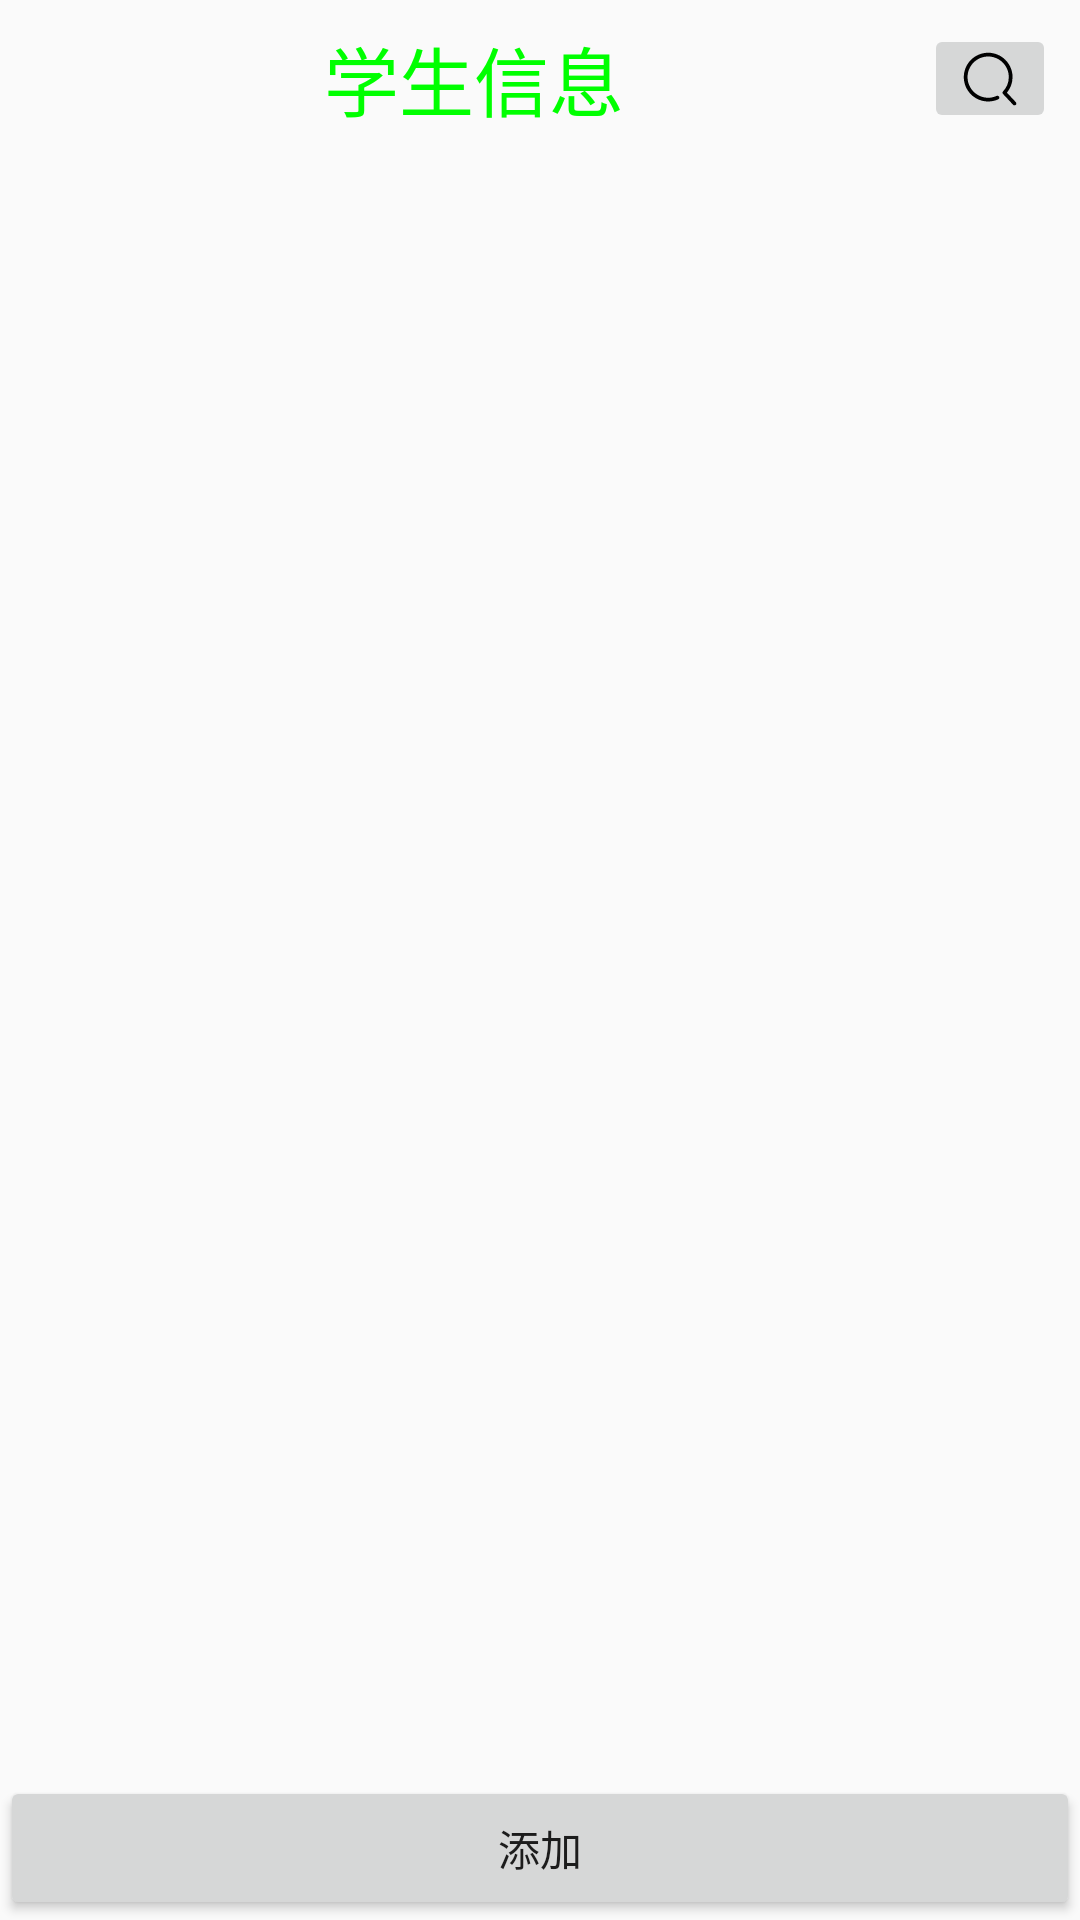

Icon bounding boxes for this 1080 x 1920 phone screenshot, format [x1, y1, x2, y2]:
search: [936, 42, 1044, 115]
